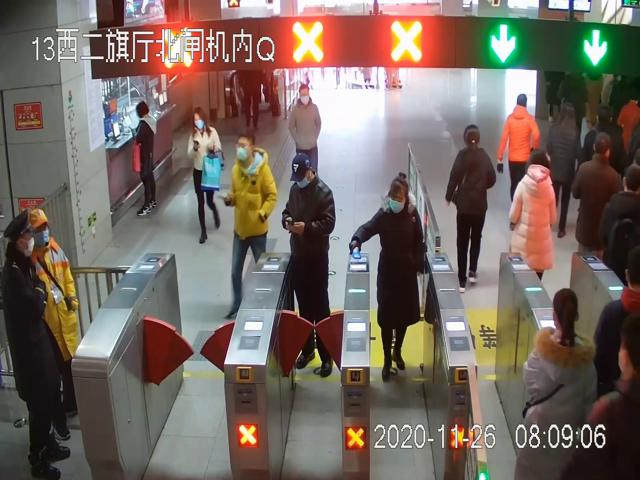person: (1, 207, 71, 480), (354, 176, 425, 380), (282, 151, 339, 377), (25, 206, 80, 439), (223, 132, 277, 315), (448, 124, 497, 292), (186, 102, 224, 245), (291, 84, 328, 182), (130, 100, 157, 219)
